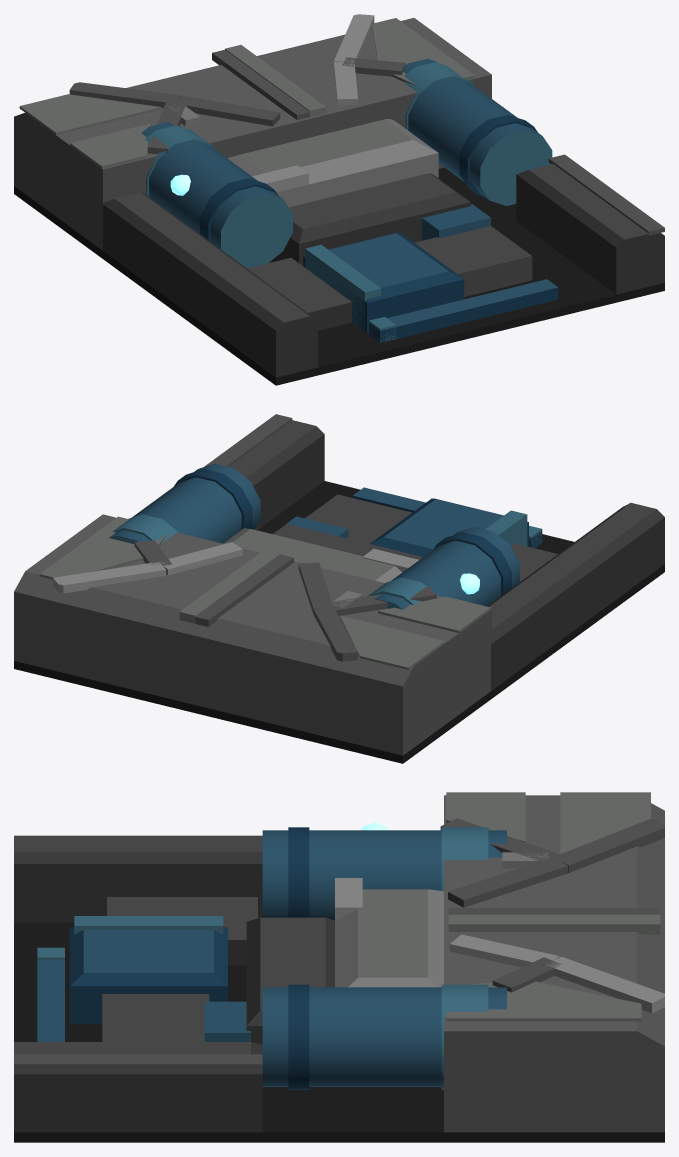
The model's file is newshf-43.glb.
3 renders of one model, top to bottom at view 1: azimuth 30°, elevation 25°; view 2: azimuth 150°, elevation 25°; view 3: azimuth 270°, elevation 25°, orthographic. The views are drawn at different scales.
Visible parts, largest first — view 1: newshf-43; view 2: newshf-43; view 3: newshf-43.
Boxes of the visible parts, x1,y1,x2,y2 form: newshf-43: (14,14,664,385); newshf-43: (14,414,664,763); newshf-43: (14,792,664,1142).
Bounding box in the file's own units: 2 × 0.4835 × 2.33.
